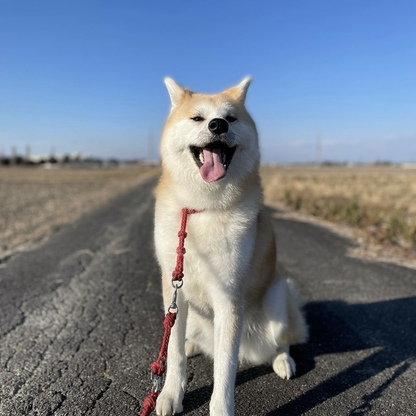akita: (141, 66, 318, 416)
